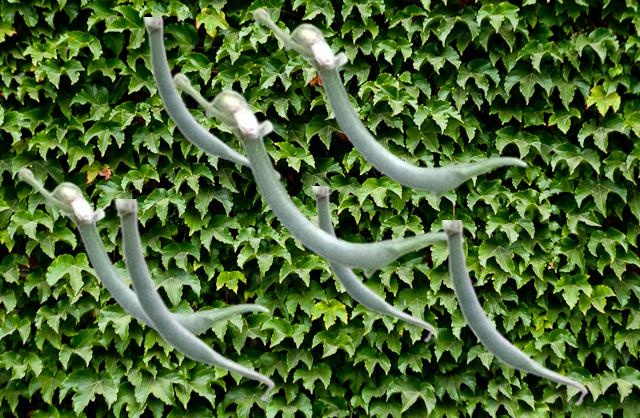french_bean: (171, 71, 464, 278), (252, 6, 527, 200), (17, 166, 269, 336), (114, 199, 274, 401), (441, 220, 587, 406), (143, 17, 280, 178), (311, 186, 434, 342)
